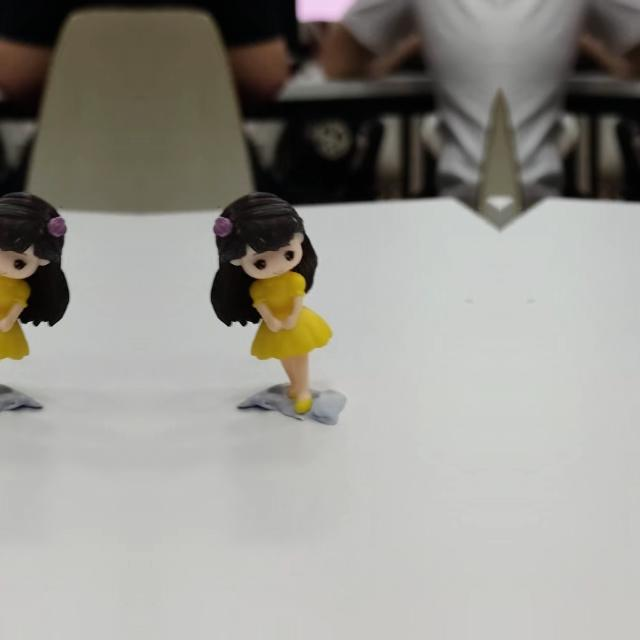woman head: (216, 182, 308, 278), (0, 181, 64, 278)
